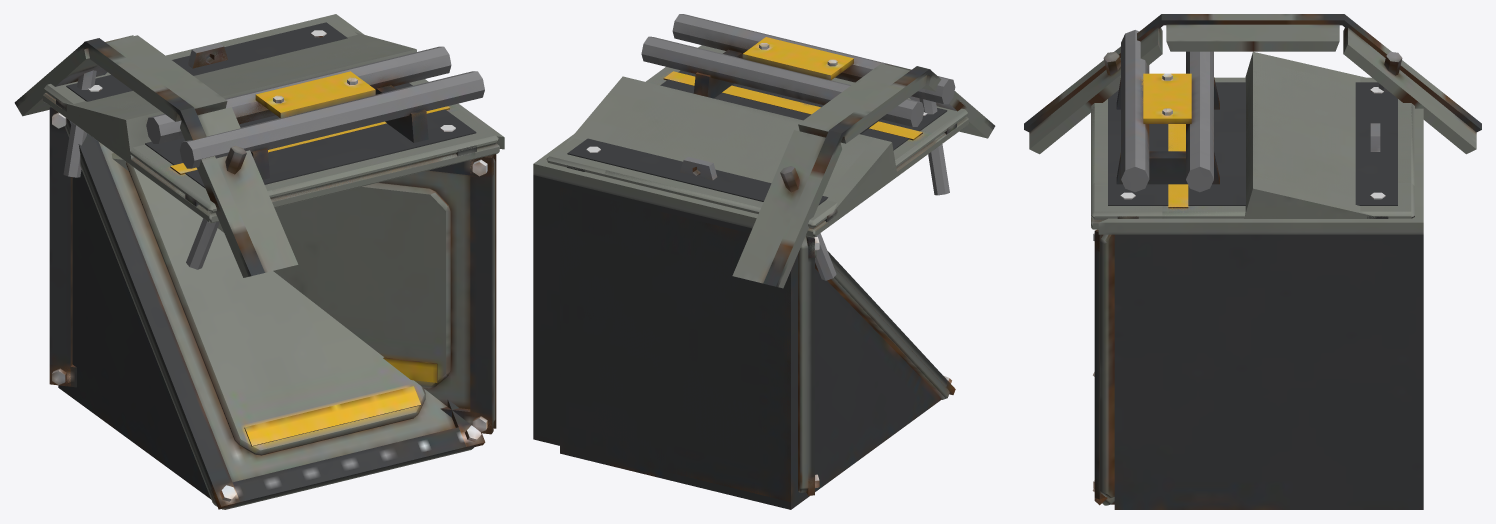
Rendered from R4H_HullKit.glb.
3 views of the same model, side by side, from view 1: azimuth 30°, elevation 25°; view 2: azimuth 150°, elevation 25°; view 3: azimuth 270°, elevation 25° (orthographic). The views are drawn at different scales.
Visible parts, largest first — view 1: ramp, cheek, lip, nose_0, nose_3, gasket, nose_1, nose_2, plate_08_0, plate_10_0, plate_09_0, plate_11_0 (+8 smaller); view 2: ramp, cheek, nose_3, lip, nose_0, nose_1, gasket, nose_2, plate_02_0, plate_14_0, plate_06_0, plate_10_0 (+9 smaller); view 3: cheek, nose_3, lip, nose_0, gasket, nose_1, nose_2, plate_01_0, plate_09_0, plate_05_0, plate_14_0, plate_10_0 (+6 smaller).
Part boxes in pixels (bbox=[...]): ramp: bbox=[58, 118, 485, 509]; cheek: bbox=[49, 14, 504, 434]; lip: bbox=[14, 35, 298, 277]; nose_0: bbox=[92, 39, 465, 179]; nose_3: bbox=[67, 46, 484, 179]; gasket: bbox=[66, 22, 476, 188]; nose_1: bbox=[94, 32, 484, 157]; nose_2: bbox=[62, 43, 464, 168]; plate_08_0: bbox=[88, 31, 476, 207]; plate_10_0: bbox=[57, 31, 475, 223]; plate_09_0: bbox=[98, 80, 499, 207]; plate_11_0: bbox=[137, 80, 498, 222]; ramp: bbox=[560, 187, 955, 509]; cheek: bbox=[533, 67, 819, 501]; nose_3: bbox=[565, 14, 948, 210]; lip: bbox=[732, 63, 995, 288]; nose_0: bbox=[594, 31, 926, 196]; nose_1: bbox=[594, 21, 926, 194]; gasket: bbox=[567, 70, 947, 205]; nose_2: bbox=[643, 28, 955, 223]; plate_02_0: bbox=[586, 104, 956, 226]; plate_14_0: bbox=[569, 79, 968, 237]; plate_06_0: bbox=[608, 121, 956, 236]; plate_10_0: bbox=[595, 78, 968, 225]; cheek: bbox=[1093, 108, 1423, 509]; nose_3: bbox=[1116, 30, 1372, 215]; lip: bbox=[1024, 14, 1481, 154]; nose_0: bbox=[1116, 40, 1355, 202]; gasket: bbox=[1108, 82, 1397, 205]; nose_1: bbox=[1121, 41, 1376, 218]; nose_2: bbox=[1121, 30, 1358, 200]; plate_01_0: bbox=[1117, 87, 1388, 218]; plate_09_0: bbox=[1091, 87, 1381, 229]; plate_05_0: bbox=[1162, 145, 1412, 218]; plate_14_0: bbox=[1094, 77, 1414, 182]; plate_10_0: bbox=[1091, 78, 1381, 199].
Size of the model in its own units: 0.565 by 0.6896 by 0.777.
Materials: 1 (1 with a texture image).
